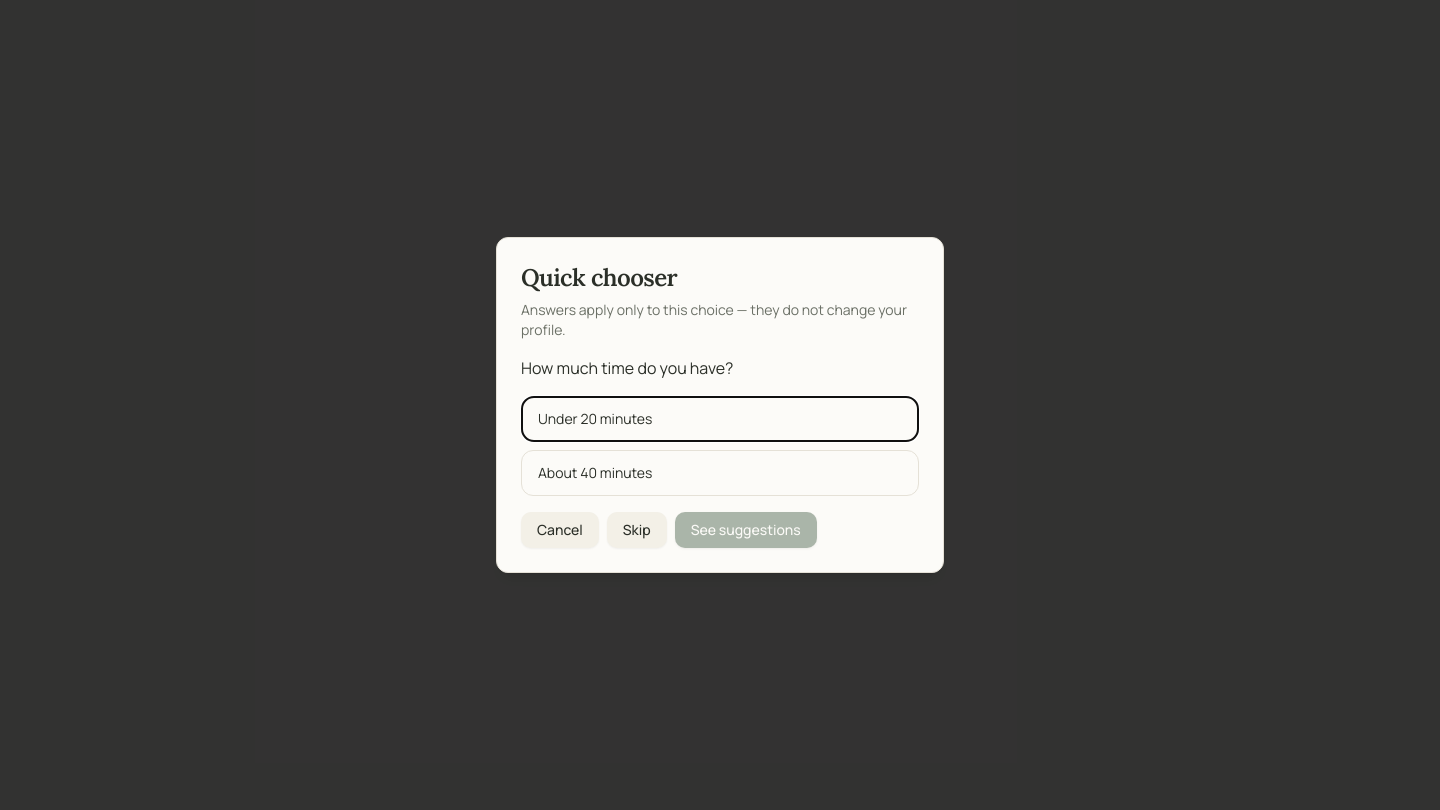
QuickChooser › shows permanent unavailable suggestion without retry or completion telemetry
Click the button with test id "chooser-option-under_20": (595, 418) [521,396,919,442]
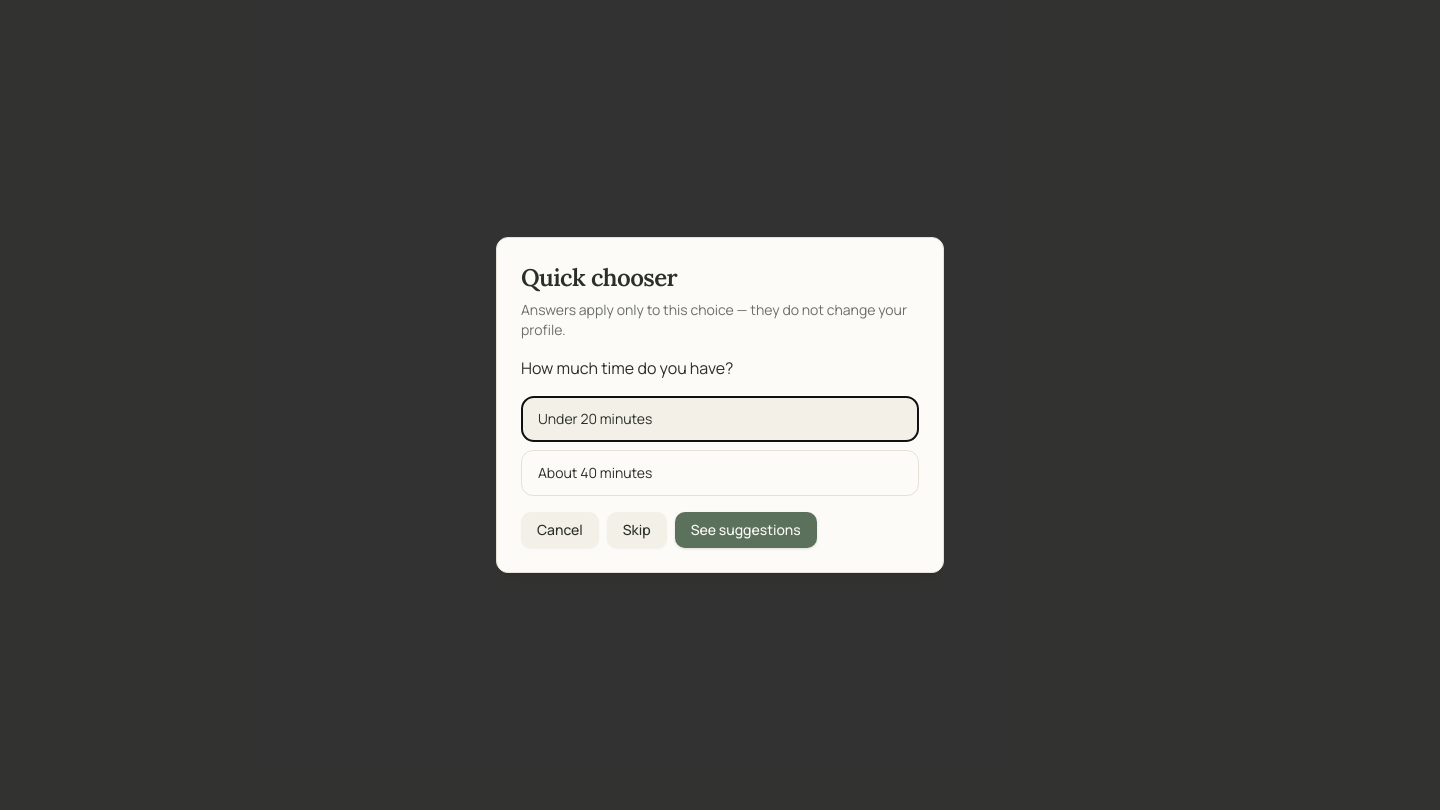
Click the button with test id "chooser-next": (746, 530) [675,512,817,548]
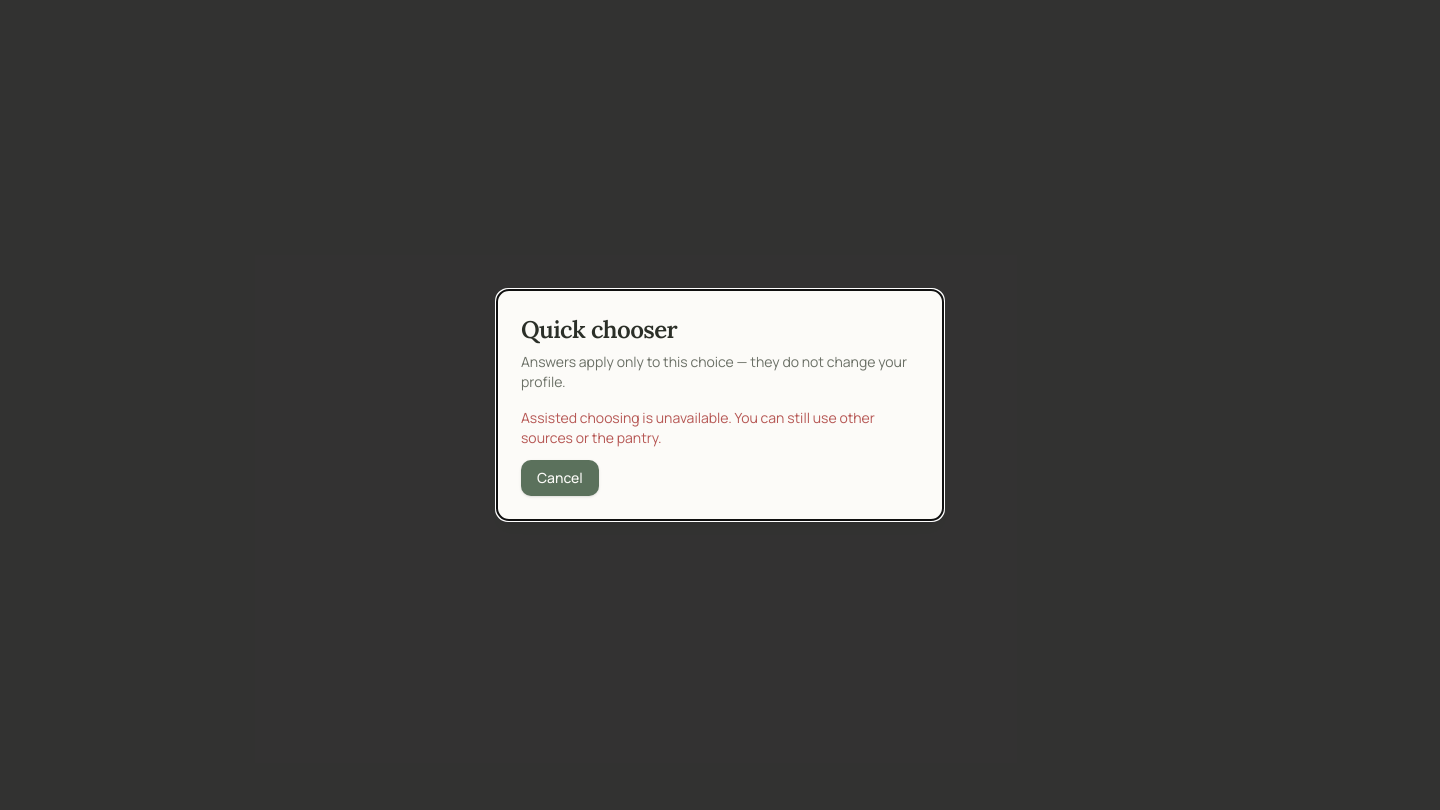
Expected: the message with test id "chooser-error" is shown, [521,408,919,448]
